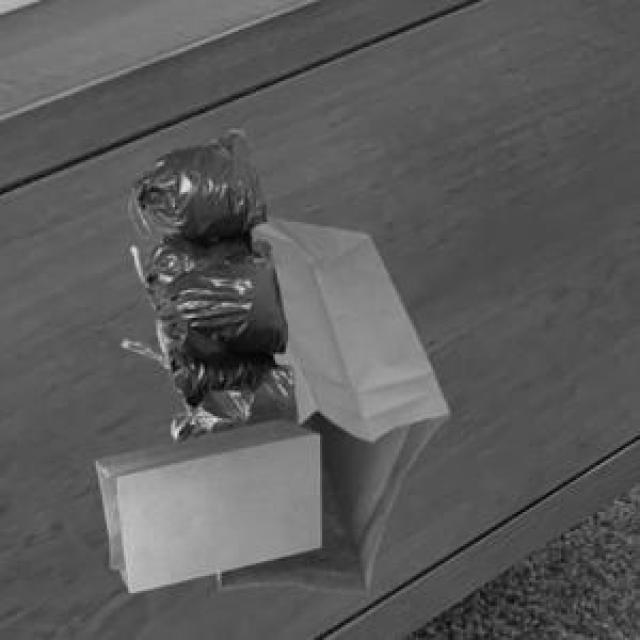miscellaneous trash: (128, 126, 292, 440)
paper: (214, 216, 444, 589), (93, 416, 318, 589)
